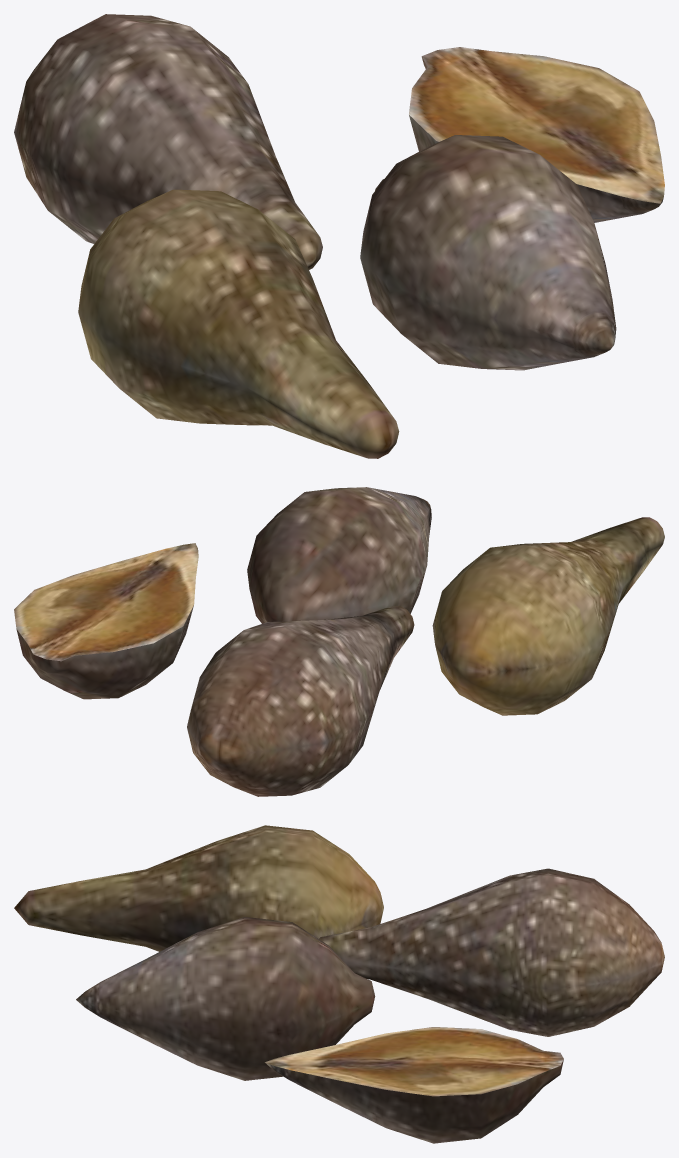
Rendered from lianqiao.FBX.
3 renders of one model, top to bottom at view 1: azimuth 30°, elevation 25°; view 2: azimuth 150°, elevation 25°; view 3: azimuth 270°, elevation 25°, orthographic. The views are drawn at different scales.
Parts seen in each view (by area): view 1: Cylinder001, Cylinder002, Cylinder003, Cylinder004; view 2: Cylinder003, Cylinder001, Cylinder002, Cylinder004; view 3: Cylinder003, Cylinder002, Cylinder001, Cylinder004.
Part boxes in pixels (x1=…): Cylinder001: x1=78, y1=189, x2=399, y2=458; Cylinder002: x1=360, y1=135, x2=616, y2=370; Cylinder003: x1=14, y1=14, x2=322, y2=269; Cylinder004: x1=409, y1=47, x2=664, y2=222; Cylinder003: x1=187, y1=605, x2=414, y2=796; Cylinder001: x1=432, y1=517, x2=664, y2=715; Cylinder002: x1=247, y1=487, x2=431, y2=623; Cylinder004: x1=14, y1=543, x2=198, y2=699; Cylinder003: x1=319, y1=868, x2=664, y2=1036; Cylinder002: x1=76, y1=917, x2=375, y2=1080; Cylinder001: x1=14, y1=825, x2=383, y2=951; Cylinder004: x1=265, y1=1027, x2=563, y2=1143.
Size of the model in its own units: 15.06 by 4.81 by 18.51.
Materials: 1 (1 with a texture image).
